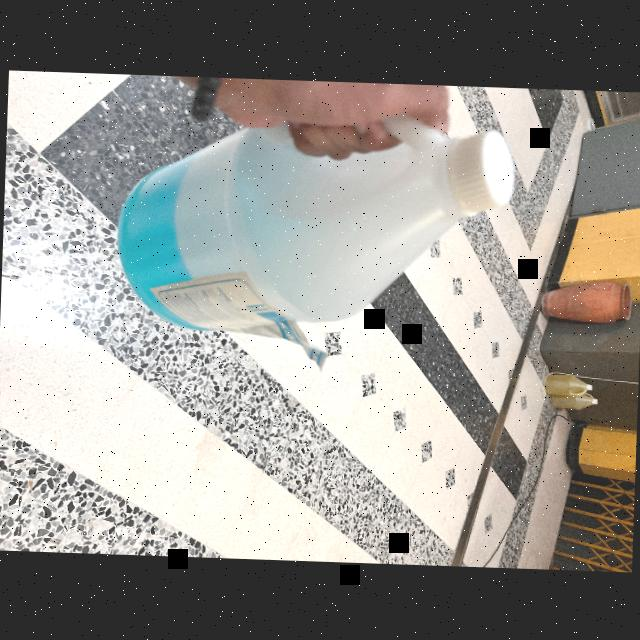chemical_plastic_gallon: (91, 80, 537, 388)
